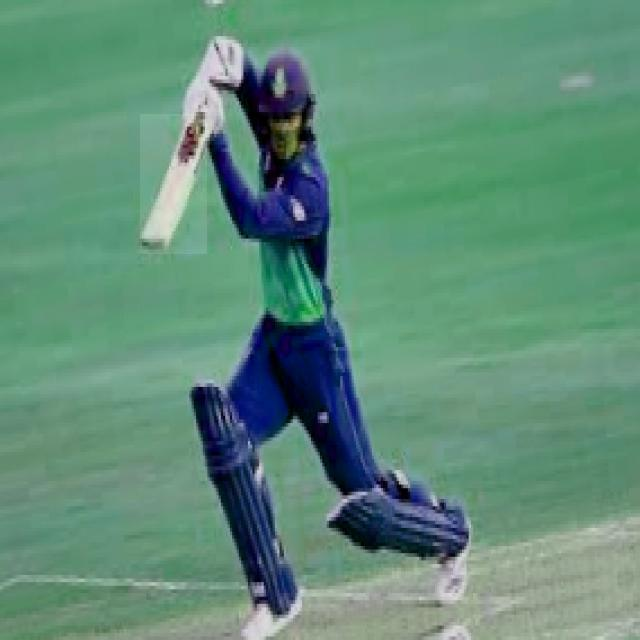bat: (138, 110, 205, 255)
toe: (140, 238, 167, 251)
